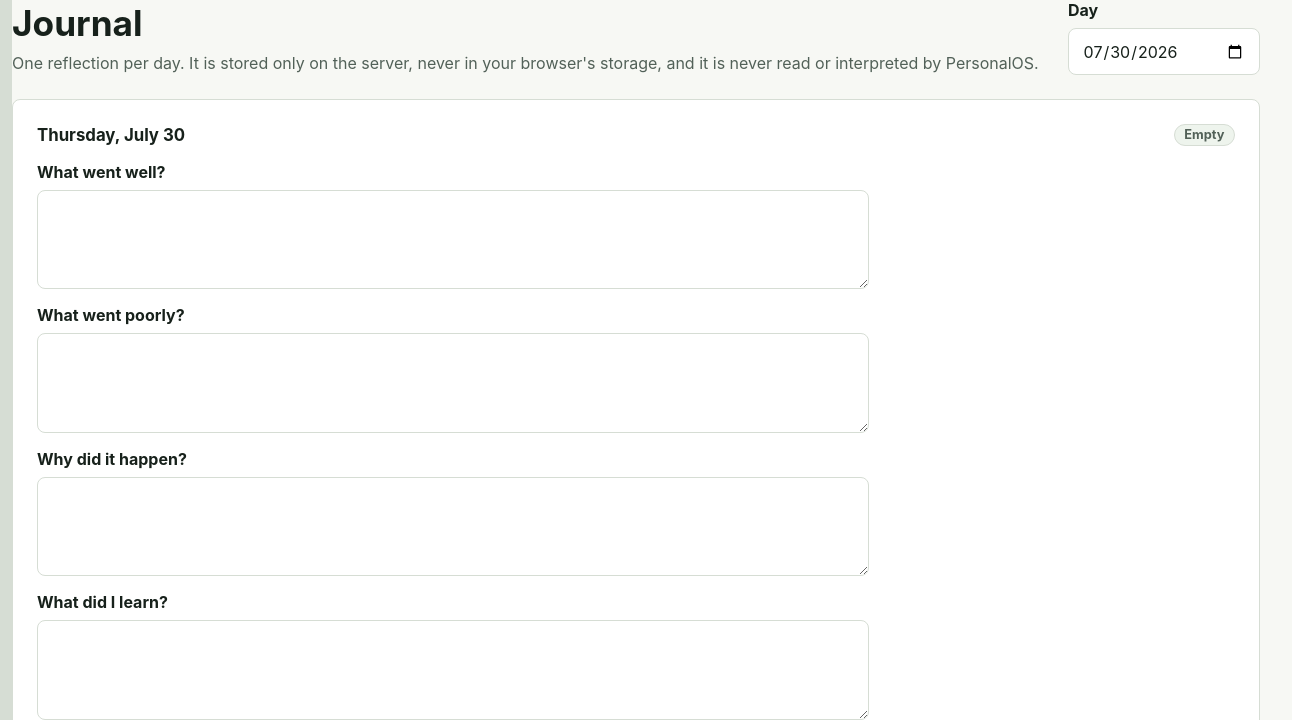
Test: JournalComponent › reports unsaved changes so navigation can be guarded
Type "Started too late." into the text box with id "cause" at (453, 526), box [37,477,869,576]
(page scrolled)
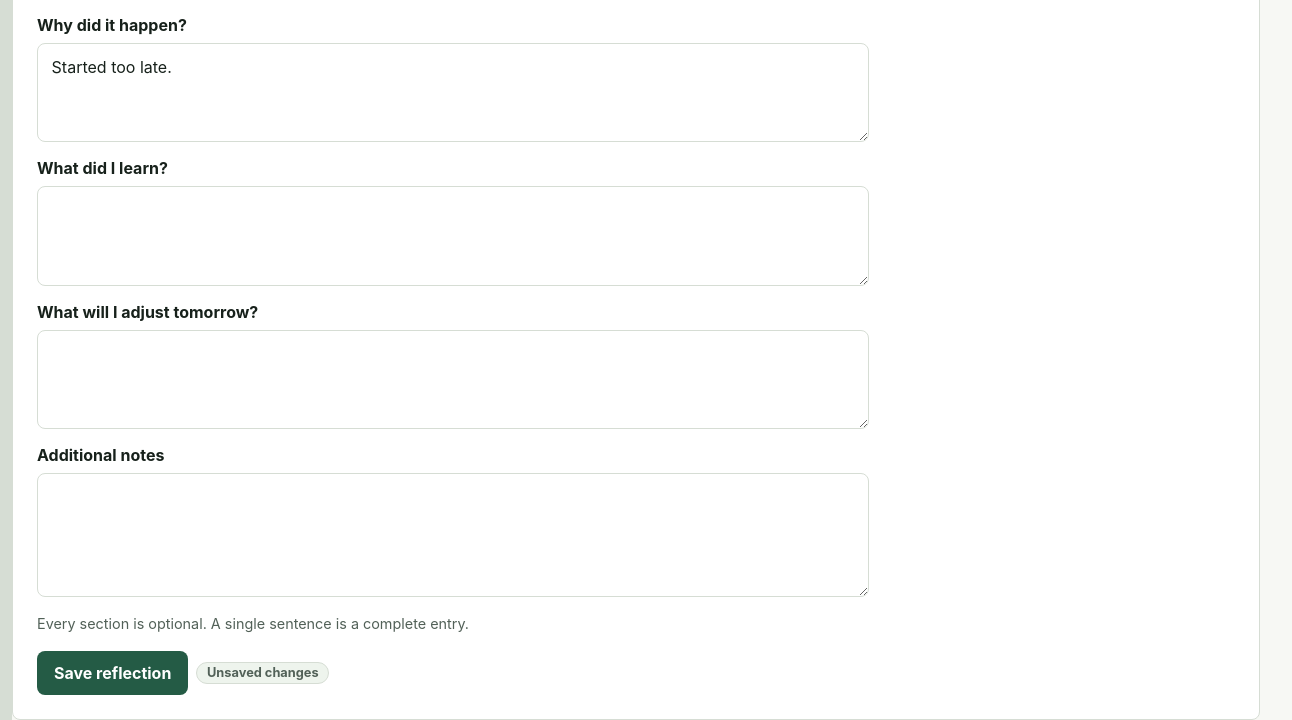
Expected: the text "Unsaved changes" is shown, [196,662,329,684]
Expected: the text with class "chip" reads "Unsaved changes", [207,665,319,680]
